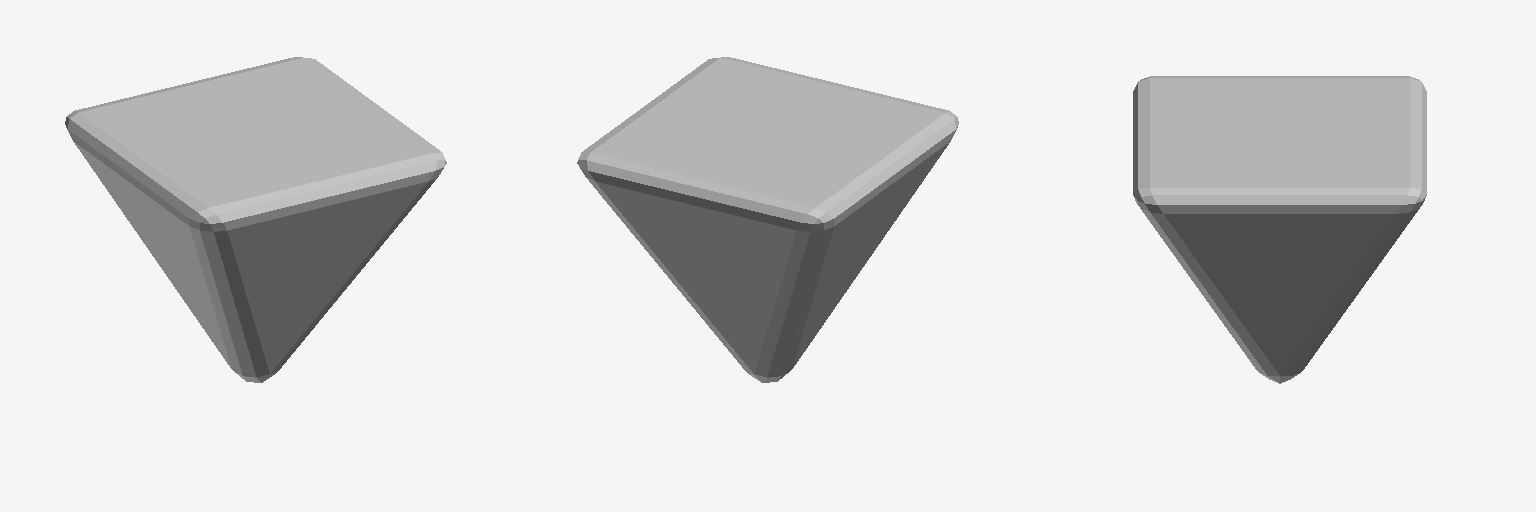
Rendered from cur_col2.obj.
The picture shows the model from 3 angles: view 1: azimuth 30°, elevation 25°; view 2: azimuth 150°, elevation 25°; view 3: azimuth 270°, elevation 25°; orthographic projection.
Visible parts, largest first — view 1: Cube; view 2: Cube; view 3: Cube.
Part boxes in pixels (bbox=[...]): Cube: bbox=[65, 57, 446, 382]; Cube: bbox=[577, 57, 958, 382]; Cube: bbox=[1133, 76, 1426, 383].
Bounding box in the file's own units: 0.5908 × 0.5473 × 0.5908.